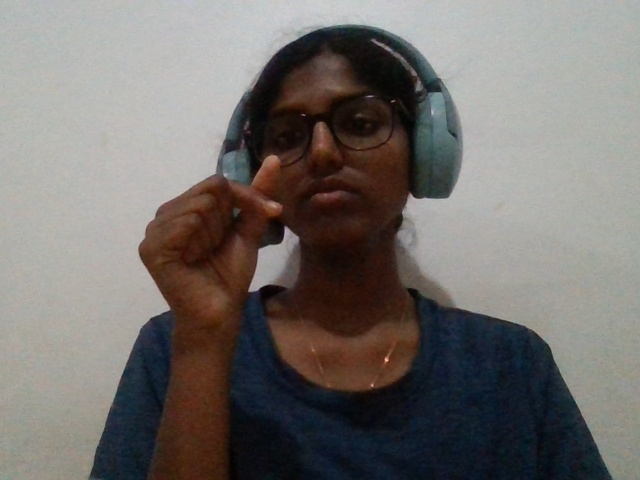G: (131, 147, 307, 478)
